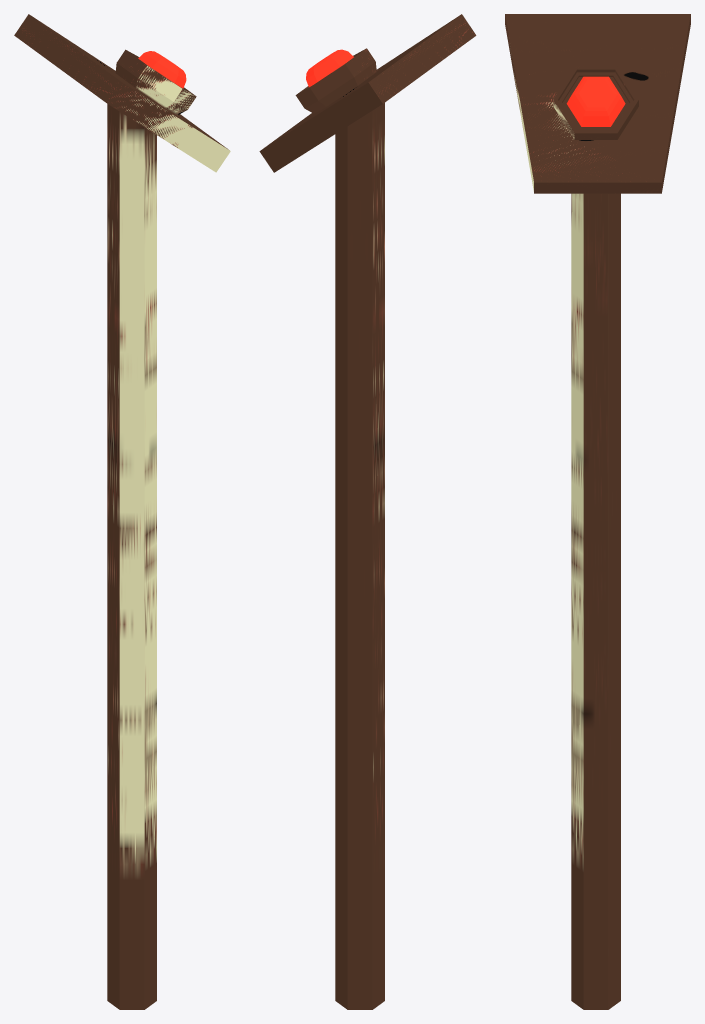
The model's file is Button_LL.glb.
3 renders of one model, left to right at view 1: azimuth 30°, elevation 25°; view 2: azimuth 150°, elevation 25°; view 3: azimuth 270°, elevation 25°, orthographic.
Parts seen in each view (by area): view 1: Button_LL; view 2: Button_LL; view 3: Button_LL.
Part boxes in pixels (x1=…): Button_LL: x1=14, y1=14, x2=230, y2=1009; Button_LL: x1=259, y1=14, x2=476, y2=1009; Button_LL: x1=505, y1=14, x2=690, y2=1009.
Bounding box in the file's own units: 0.5162 × 3.45 × 0.6057.
Materials: 2 (1 with a texture image).
